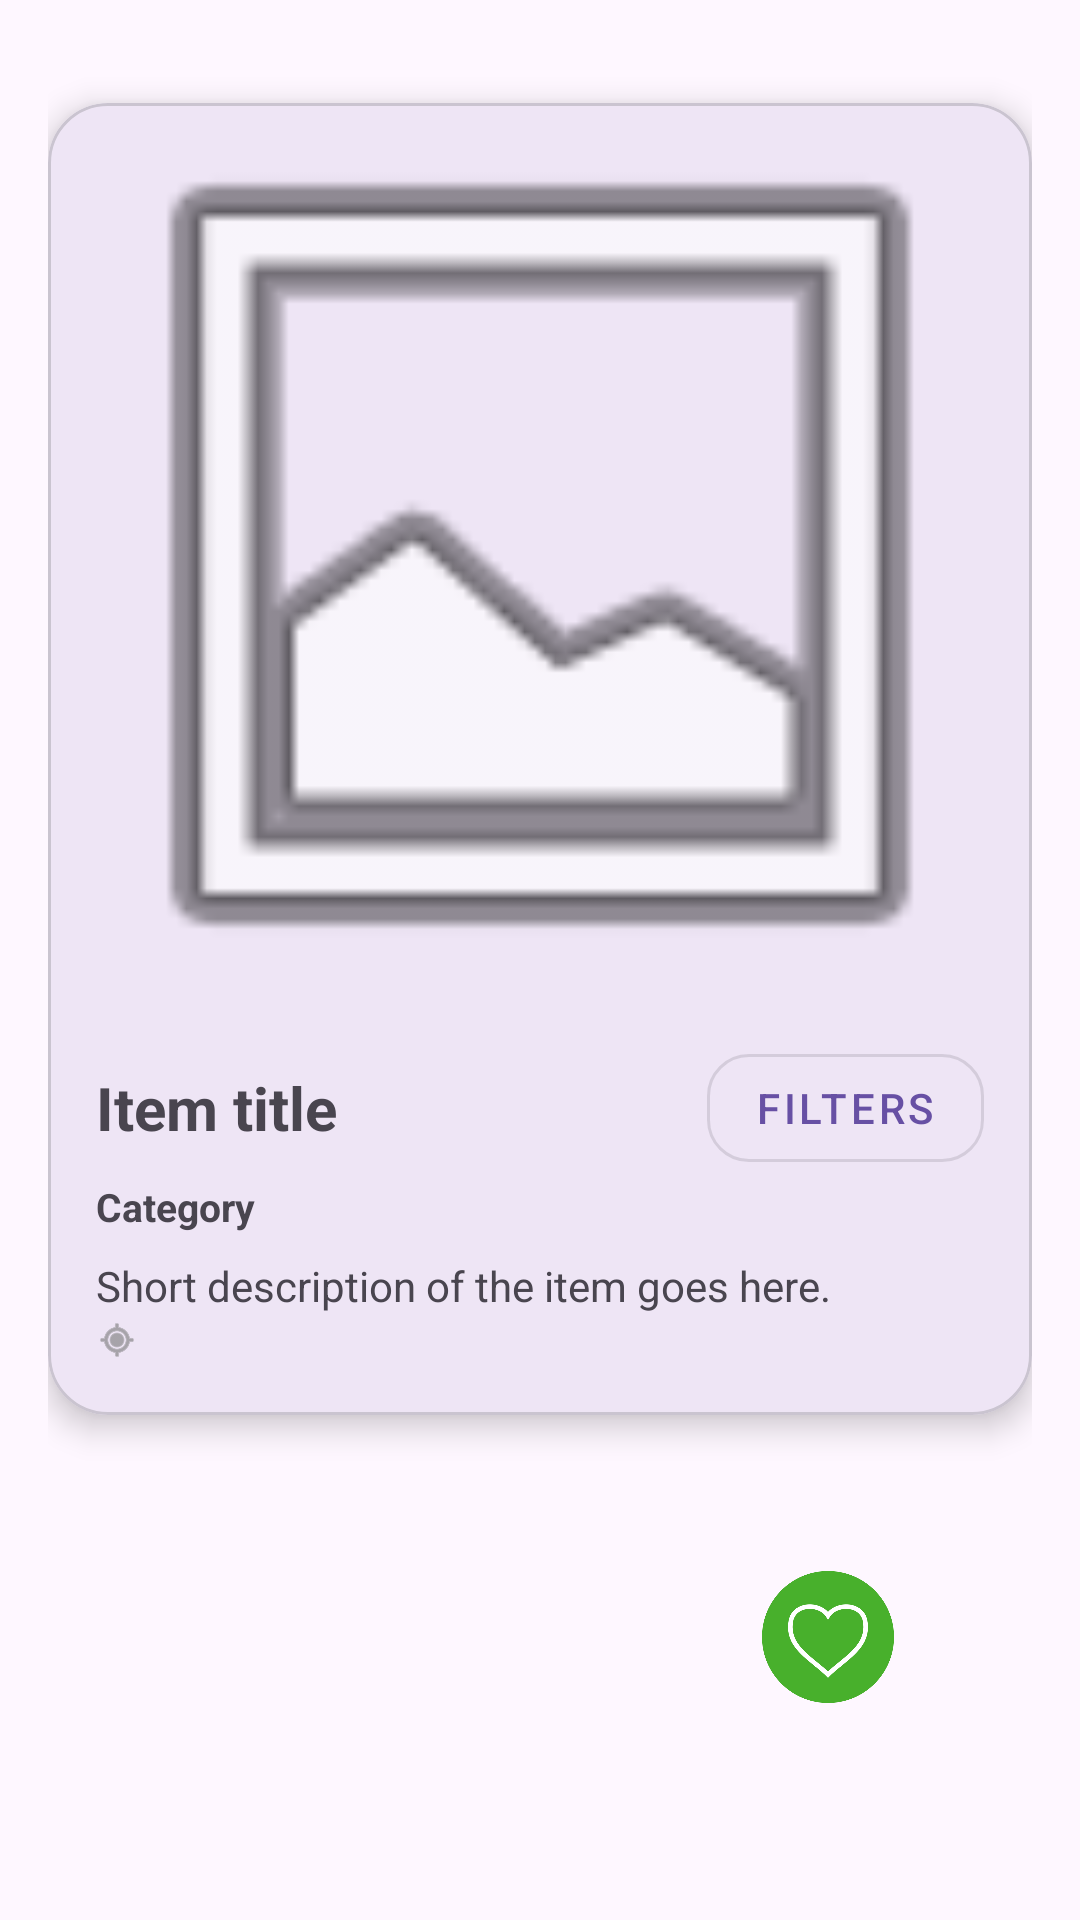

Screen size 1080 × 1920. Icon name, then its center in pixels as [x,y]:
Like: [828,1637]
mylocation: [117,1340]
